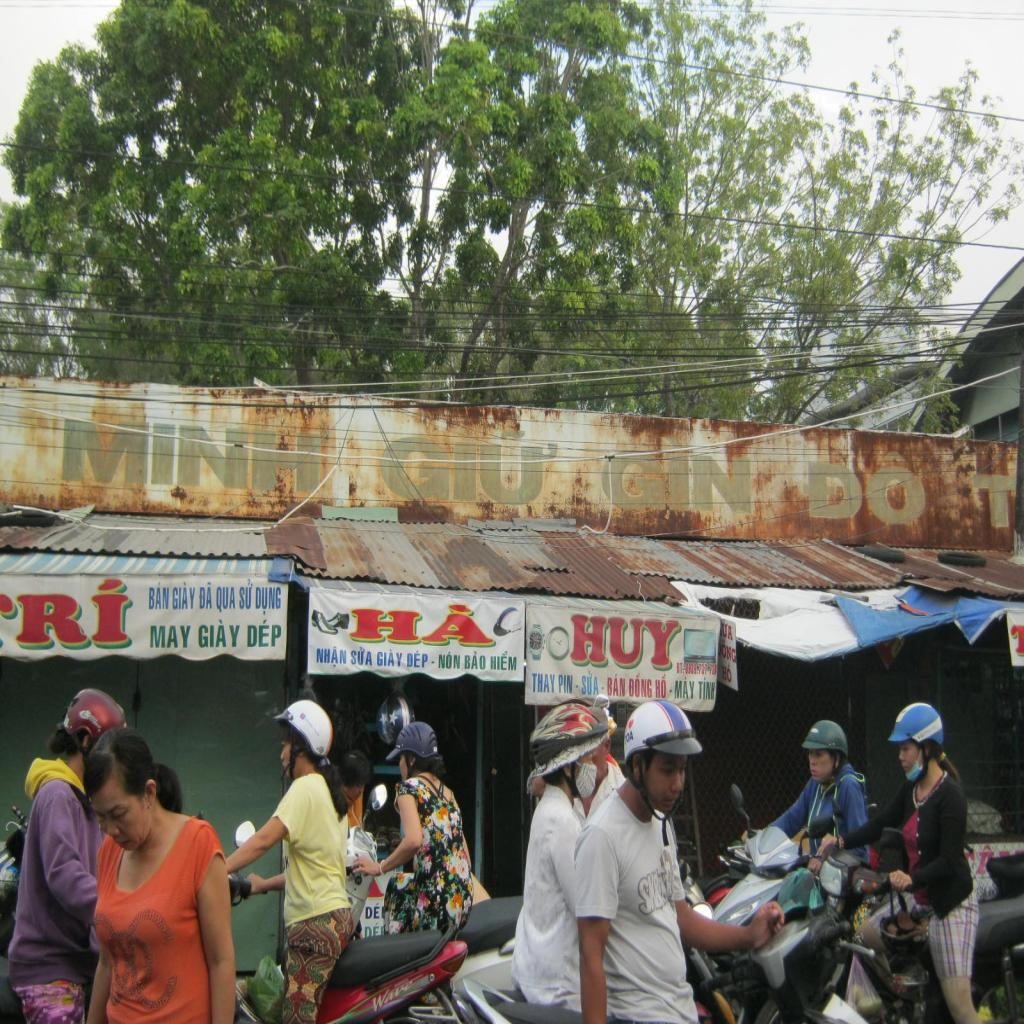text: (54, 411, 326, 496), (376, 425, 564, 513), (597, 429, 759, 526), (802, 440, 939, 532), (349, 598, 502, 650), (568, 610, 684, 673), (965, 467, 1018, 540), (197, 619, 241, 650), (148, 622, 194, 651), (246, 618, 283, 650), (315, 643, 349, 669), (254, 586, 283, 616), (172, 580, 196, 612), (628, 672, 654, 700), (490, 650, 519, 674), (148, 580, 170, 611), (375, 648, 405, 670), (216, 584, 237, 614), (76, 708, 104, 730), (350, 644, 374, 669), (531, 670, 556, 694), (405, 648, 430, 670), (436, 650, 461, 672), (674, 676, 696, 701), (238, 578, 254, 612), (685, 660, 719, 676), (607, 671, 626, 699), (463, 650, 487, 672), (580, 671, 601, 696), (199, 580, 213, 611), (698, 678, 716, 702), (654, 672, 668, 700), (558, 672, 574, 696), (721, 662, 734, 686), (676, 661, 686, 675), (430, 659, 436, 666), (600, 685, 606, 691), (575, 684, 579, 690), (669, 688, 673, 694)
